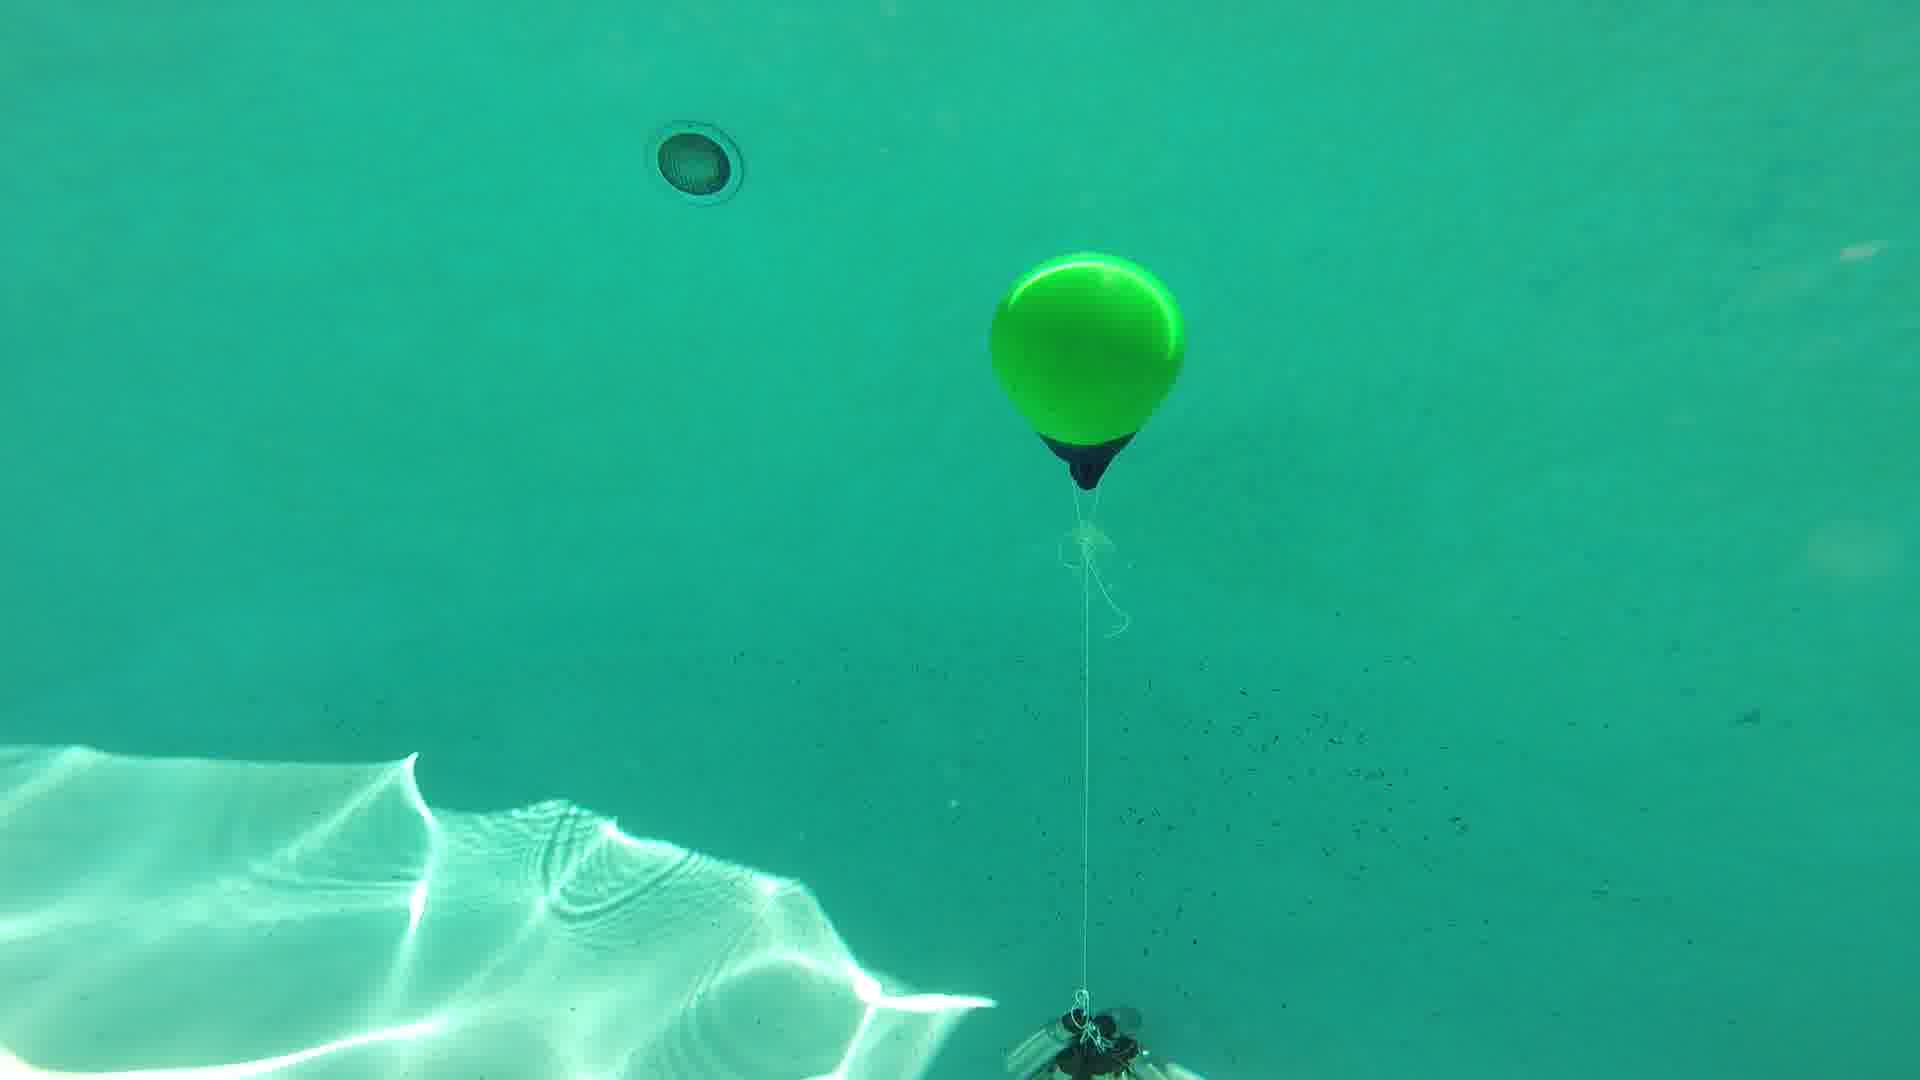yellow_buoy: (989, 248, 1189, 495)
